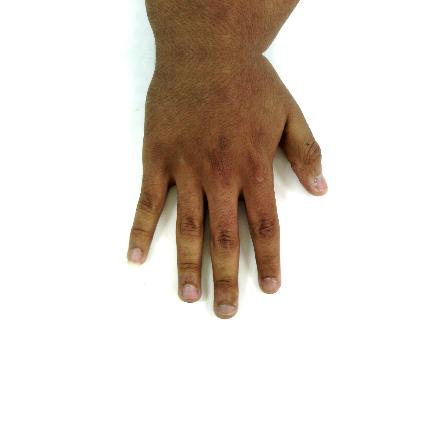Nail: (127, 248, 143, 267), (262, 277, 279, 294), (315, 173, 328, 193), (183, 284, 199, 300), (217, 305, 237, 316)
